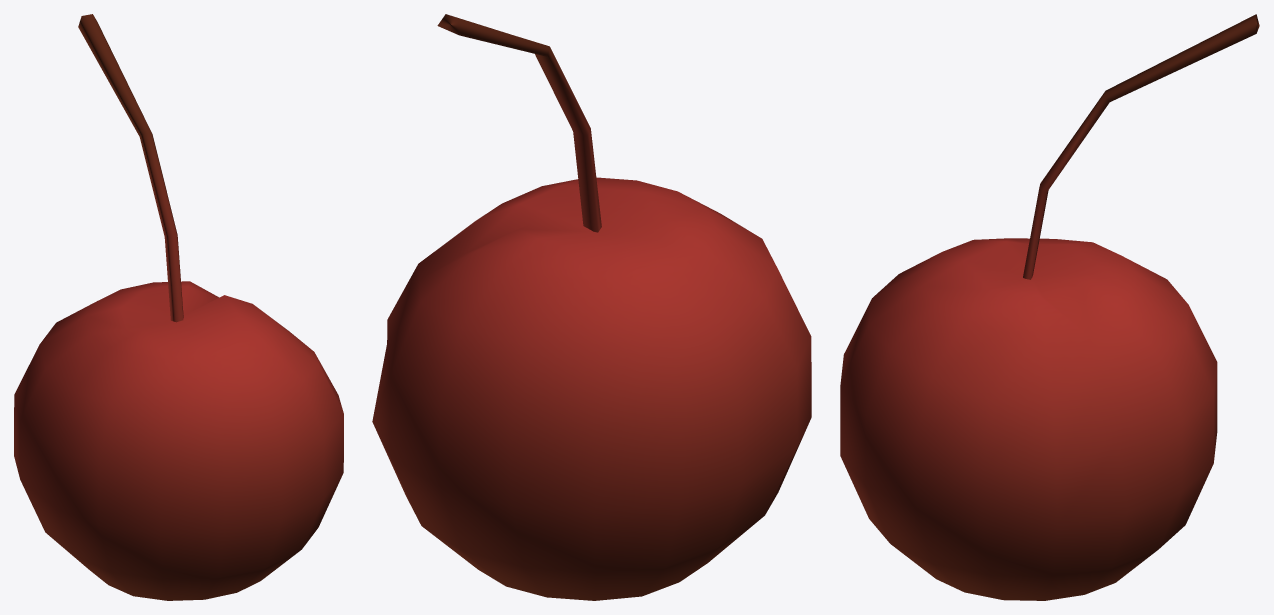
3 views of the same model, side by side, from view 1: azimuth 30°, elevation 25°; view 2: azimuth 150°, elevation 25°; view 3: azimuth 270°, elevation 25° (orthographic). The views are drawn at different scales.
Visible parts, largest first — view 1: Cherry; view 2: Cherry; view 3: Cherry.
Boxes of the visible parts, x1,y1,x2,y2 form: Cherry: (14, 14, 343, 600); Cherry: (372, 14, 811, 600); Cherry: (840, 14, 1259, 600).
Size of the model in its own units: 0.2995 by 0.5 by 0.3368.
